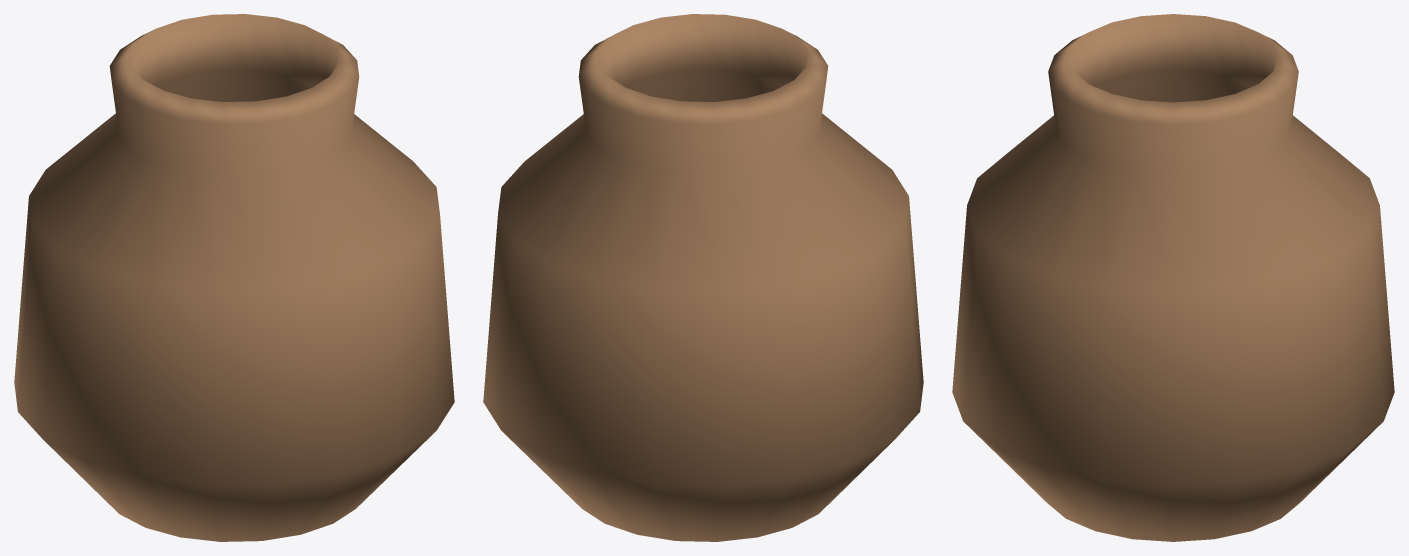
Rendered from SM_HH_Art_CeramicJar.fbx.
3 renders of one model, left to right at view 1: azimuth 30°, elevation 25°; view 2: azimuth 150°, elevation 25°; view 3: azimuth 270°, elevation 25°, orthographic.
Parts seen in each view (by area): view 1: HH_Art_CeramicJar; view 2: HH_Art_CeramicJar; view 3: HH_Art_CeramicJar.
Boxes of the visible parts, left/top/right/bottom form: HH_Art_CeramicJar: left=14, top=14, right=454, bottom=541; HH_Art_CeramicJar: left=483, top=14, right=923, bottom=541; HH_Art_CeramicJar: left=952, top=14, right=1394, bottom=541.
Size of the model in its own units: 0.3 by 0.3 by 0.33.
